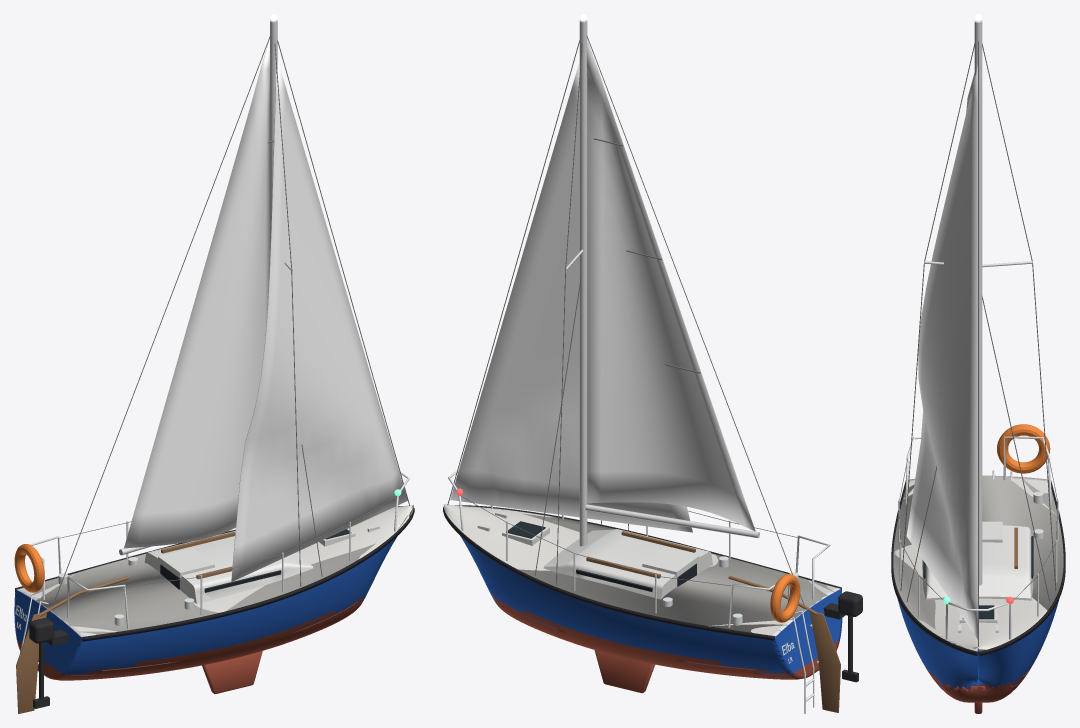
File: elba_sousmarin.glb
The picture shows the model from 3 angles, left to right: view 1: azimuth 30°, elevation 25°; view 2: azimuth 150°, elevation 25°; view 3: azimuth 270°, elevation 25°; orthographic projection. The views are drawn at different scales.
Parts seen in each view (by area): view 1: Genois, GrandVoile, Coque, CoqueSousMarin, Liston, Quille, Safran, Mat.001, Bouee, Pataras.001, Hauban.003, Etai.001; view 2: GrandVoile, Genois, Coque, CoqueSousMarin, Mat.001, Liston, Safran, Quille, Bome.001, Bouee, Pataras.001, Hauban.002 (+1 smaller); view 3: Genois, Coque, CoqueSousMarin, Mat.001, Liston, Bouee, Hauban.002, Hauban.003, Etai.001, BasHauban.002, Balcon AR.002, Balcon.001.
Boxes of the visible parts, x1,y1,x2,y2 form: Genois: (231,60,407,581); GrandVoile: (124,39,269,548); Coque: (15,505,413,680); CoqueSousMarin: (14,504,413,680); Liston: (15,506,414,641); Quille: (202,651,262,693); Safran: (16,613,46,713); Mat.001: (270,19,277,259); Bouee: (14,544,44,592); Pataras.001: (52,35,270,606); Hauban.003: (274,43,301,586); Etai.001: (277,40,409,505); GrandVoile: (587,38,755,531); Genois: (450,62,692,532); Coque: (443,504,841,679); CoqueSousMarin: (444,504,842,679); Mat.001: (579,19,587,546); Liston: (443,505,841,640); Safran: (810,612,840,712); Quille: (594,650,654,693); Bome.001: (585,504,759,538); Bouee: (770,574,800,622); Pataras.001: (586,35,804,605); Hauban.002: (556,43,582,585); Genois: (906,64,977,639); Coque: (893,475,1063,702); CoqueSousMarin: (893,475,1059,702); Mat.001: (974,20,982,585); Liston: (891,480,1065,655); Bouee: (997,424,1050,473); Hauban.002: (982,43,1056,590); Hauban.003: (900,43,974,590); Etai.001: (978,41,978,646); BasHauban.002: (982,296,1050,601); Balcon AR.002: (1003,436,1051,504); Balcon.001: (945,602,1011,639).
Size of the model in its own units: 6.57 by 10.45 by 2.32.
